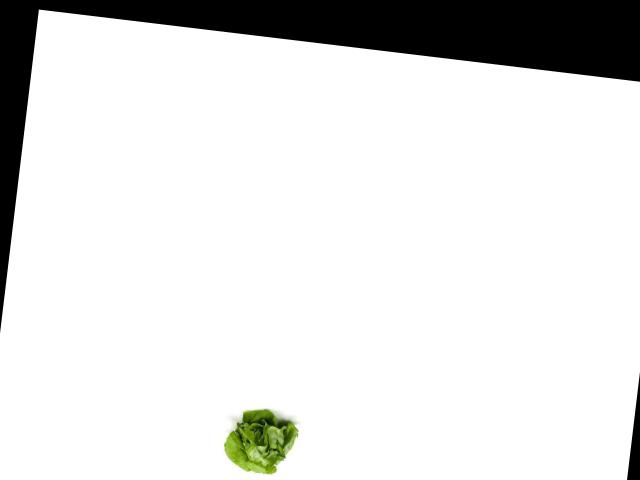lettuce: (219, 401, 302, 480)
